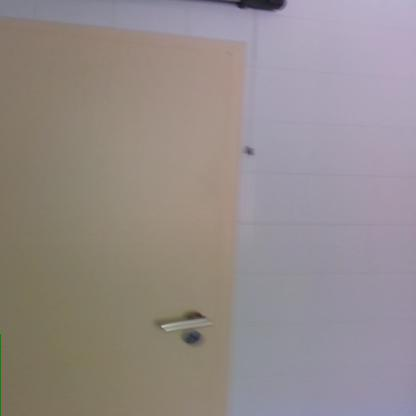closed: (0, 34, 274, 415)
